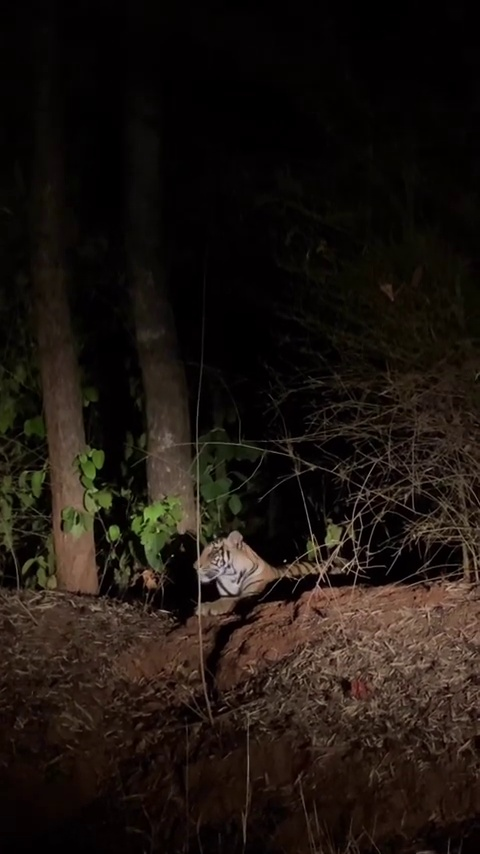Tiger: (190, 528, 354, 617)
